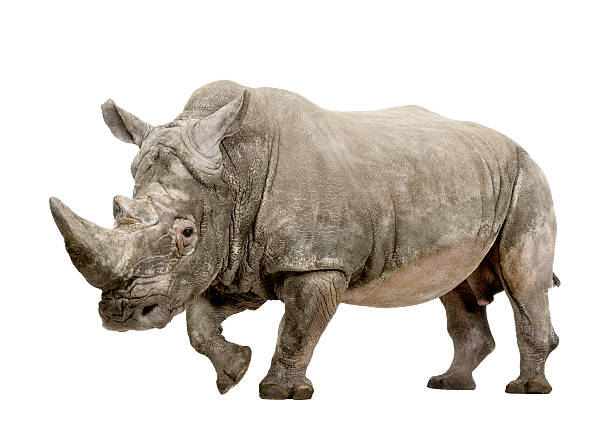rhino: (27, 93, 271, 352)
